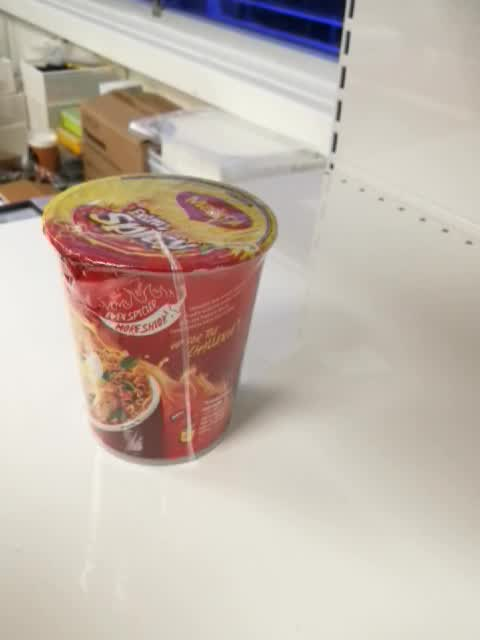maggi: (40, 172, 279, 468)
